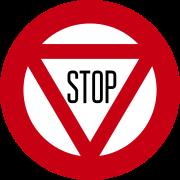Stop: (11, 22, 169, 165)
